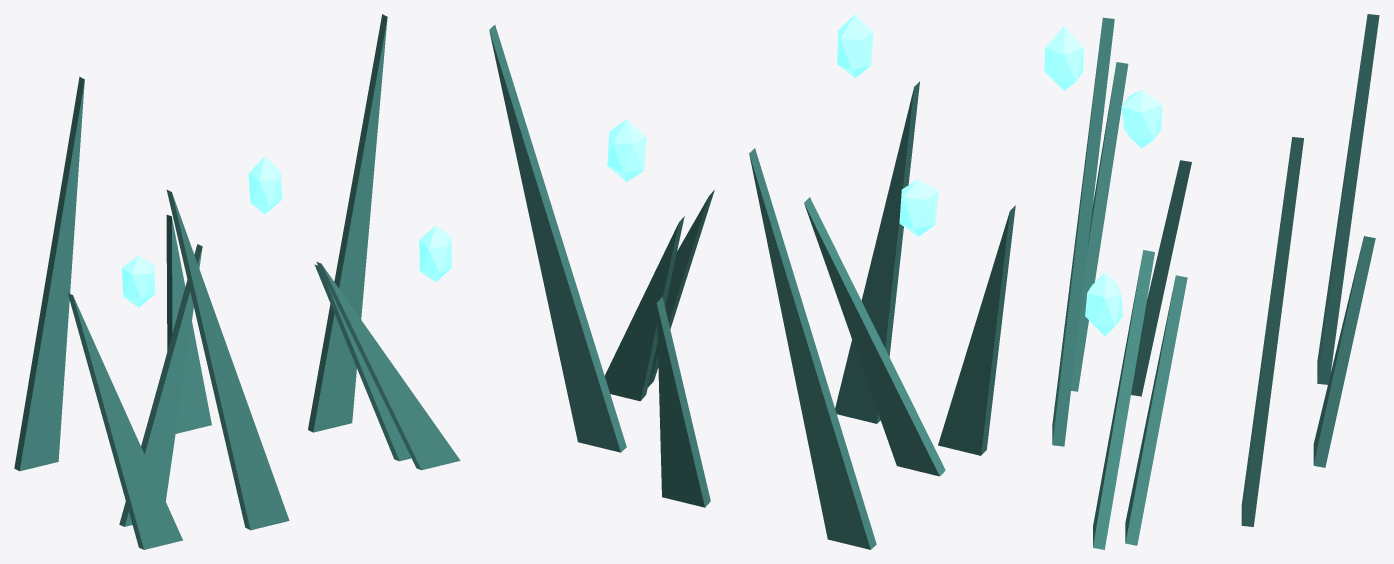
The model's file is SM_RUI_NAT_004_LuminousGrass.glb.
The picture shows the model from 3 angles, left to right: view 1: azimuth 30°, elevation 25°; view 2: azimuth 150°, elevation 25°; view 3: azimuth 270°, elevation 25°; orthographic projection. The views are drawn at different scales.
Visible parts, largest first — view 1: SM_RUI_NAT_004_LuminousGrass; view 2: SM_RUI_NAT_004_LuminousGrass; view 3: SM_RUI_NAT_004_LuminousGrass.
Boxes of the visible parts, <box> form: SM_RUI_NAT_004_LuminousGrass: <box>14,14,460,549</box>; SM_RUI_NAT_004_LuminousGrass: <box>489,14,1015,549</box>; SM_RUI_NAT_004_LuminousGrass: <box>1044,14,1379,549</box>.
Bounding box in the file's own units: 0.5043 × 0.4619 × 0.3327.
